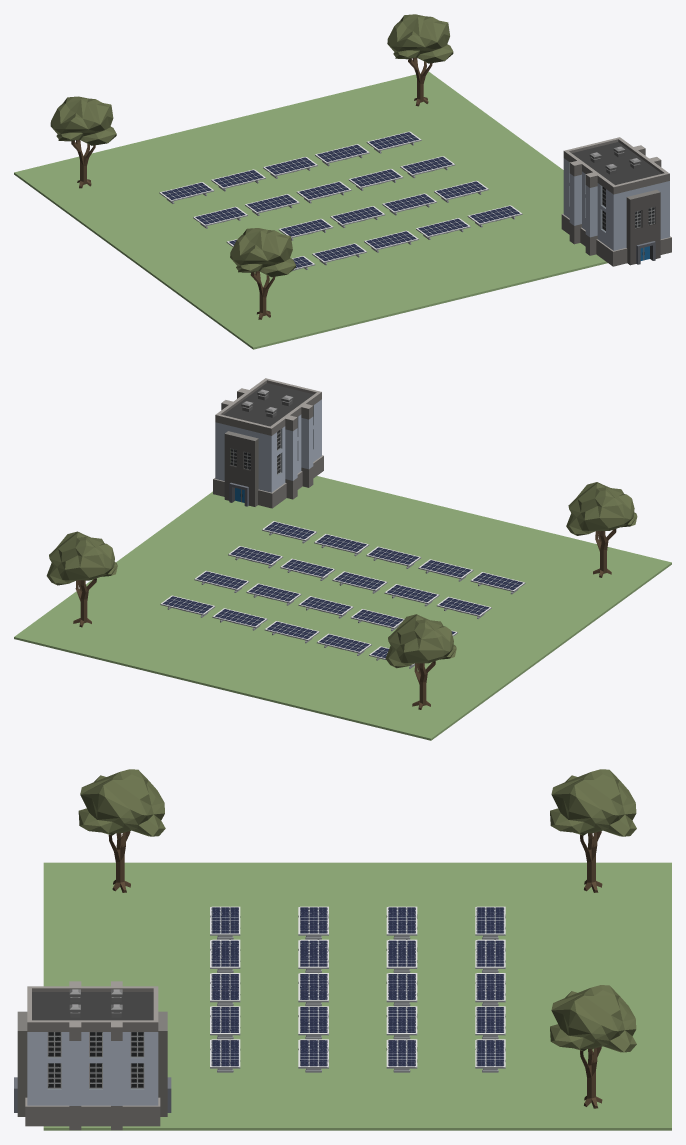
Rendered from solar-farm.glb.
The picture shows the model from 3 angles, top to bottom: view 1: azimuth 30°, elevation 25°; view 2: azimuth 150°, elevation 25°; view 3: azimuth 270°, elevation 25°; orthographic projection. The views are drawn at different scales.
Parts seen in each view (by area): view 1: Ground, Solar_Power_Building, Solar_Tree_SW, Solar_Tree_NW, Solar_Tree_NE, Solar_Panel_4_0, Solar_Panel_0_2, Solar_Panel_2_0, Solar_Panel_2_2, Solar_Panel_3_3, Solar_Panel_4_2, Solar_Panel_1_3 (+11 smaller); view 2: Ground, Solar_Power_Building, Solar_Tree_NE, Solar_Tree_NW, Solar_Tree_SW, Solar_Panel_2_1, Solar_Panel_2_0, Solar_Panel_3_2, Solar_Panel_4_0, Solar_Panel_4_3, Solar_Panel_2_2, Solar_Panel_2_3 (+11 smaller); view 3: Ground, Solar_Power_Building, Solar_Tree_SW, Solar_Tree_NW, Solar_Tree_NE, Solar_Panel_4_2, Solar_Panel_0_2, Solar_Panel_2_2, Solar_Panel_3_2, Solar_Panel_1_2, Solar_Panel_2_1, Solar_Panel_2_3 (+13 smaller).
Boxes of the visible parts, bbox=[...] form: Ground: bbox=[14, 71, 607, 349]; Solar_Power_Building: bbox=[561, 137, 671, 266]; Solar_Tree_SW: bbox=[230, 228, 295, 319]; Solar_Tree_NW: bbox=[50, 96, 116, 188]; Solar_Tree_NE: bbox=[387, 14, 453, 106]; Solar_Panel_4_0: bbox=[467, 205, 522, 227]; Solar_Panel_0_2: bbox=[193, 206, 247, 228]; Solar_Panel_2_0: bbox=[364, 230, 418, 252]; Solar_Panel_2_2: bbox=[296, 181, 351, 203]; Solar_Panel_3_3: bbox=[315, 144, 369, 166]; Solar_Panel_4_2: bbox=[400, 156, 455, 178]; Solar_Panel_1_3: bbox=[211, 169, 265, 191]; Ground: bbox=[14, 476, 671, 740]; Solar_Power_Building: bbox=[213, 378, 323, 508]; Solar_Tree_NE: bbox=[46, 531, 117, 627]; Solar_Tree_NW: bbox=[385, 614, 456, 709]; Solar_Tree_SW: bbox=[566, 482, 637, 577]; Solar_Panel_2_1: bbox=[332, 571, 387, 593]; Solar_Panel_2_0: bbox=[366, 546, 421, 568]; Solar_Panel_3_2: bbox=[246, 583, 301, 605]; Solar_Panel_4_0: bbox=[262, 521, 316, 543]; Solar_Panel_4_3: bbox=[160, 595, 215, 617]; Solar_Panel_2_2: bbox=[298, 596, 353, 618]; Solar_Panel_2_3: bbox=[264, 621, 319, 643]; Ground: bbox=[43, 862, 671, 1130]; Solar_Power_Building: bbox=[14, 981, 171, 1130]; Solar_Tree_SW: bbox=[78, 769, 165, 892]; Solar_Tree_NW: bbox=[550, 769, 636, 892]; Solar_Tree_NE: bbox=[550, 985, 636, 1108]; Solar_Panel_4_2: bbox=[386, 1039, 417, 1072]; Solar_Panel_0_2: bbox=[386, 906, 417, 939]; Solar_Panel_2_2: bbox=[386, 973, 417, 1006]; Solar_Panel_3_2: bbox=[386, 1006, 417, 1039]; Solar_Panel_1_2: bbox=[386, 939, 417, 972]; Solar_Panel_2_1: bbox=[298, 973, 328, 1006]; Solar_Panel_2_3: bbox=[475, 973, 505, 1006].
Size of the model in its own units: 32.26 by 6.59 by 33.51.
4 materials, 3 textured.
